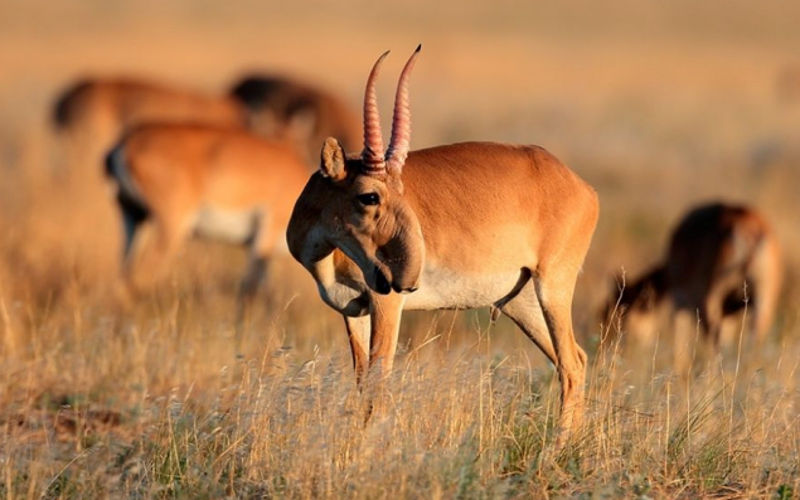saiga: (287, 40, 599, 470)
